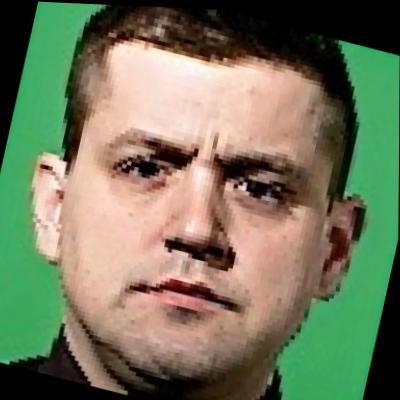angry: (37, 20, 361, 400)
